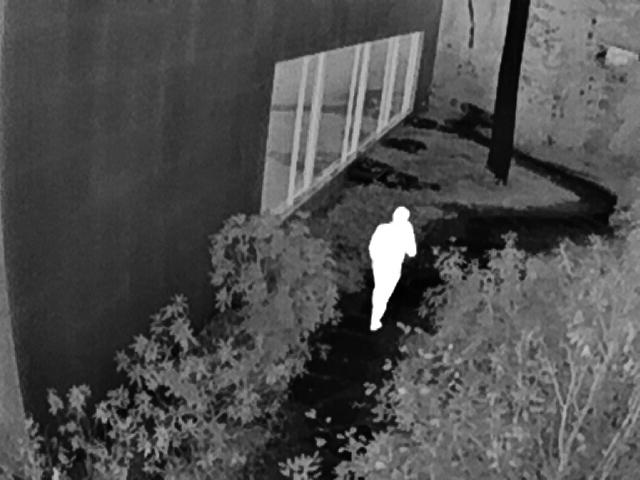person: (370, 206, 419, 330)
